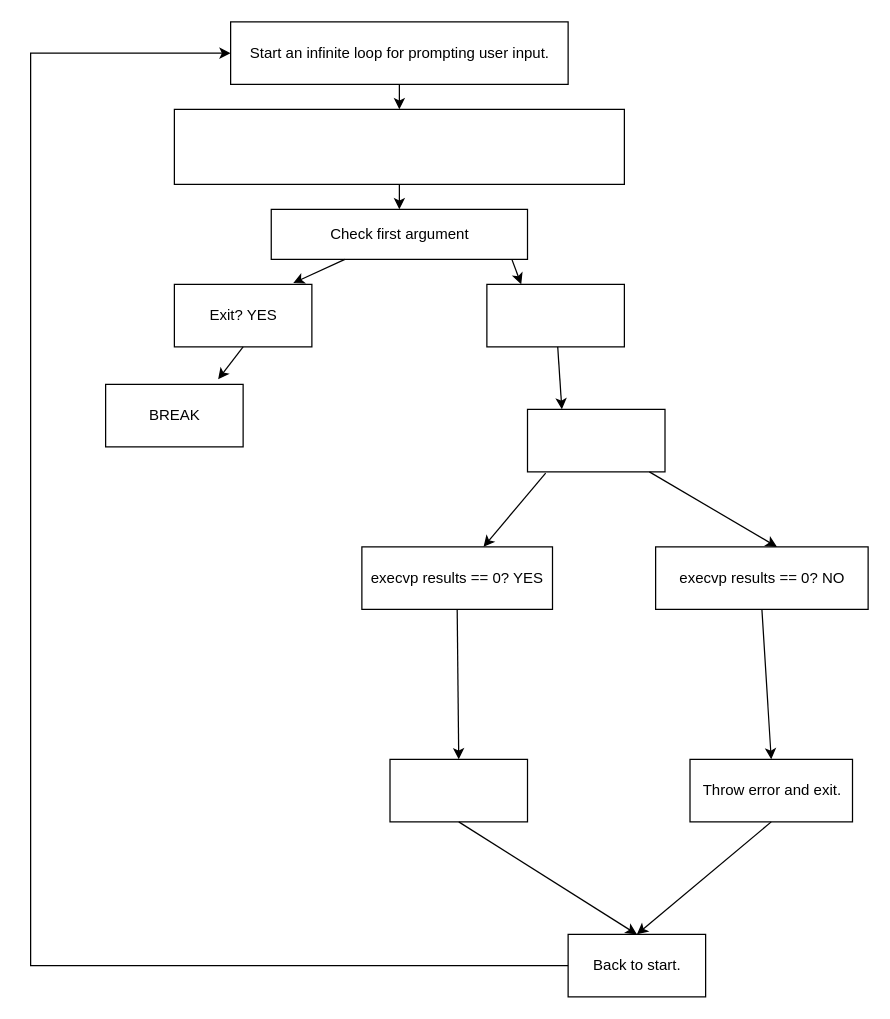
This 890x1019 diagram has some shape labels left out. Here are the shapes that lost their labels. From the top down, the box of each, then its label:
(173, 108, 624, 184): Store user input into a char array, and then split the arguments.
(486, 283, 624, 347): Exit? NO
(526, 408, 665, 472): Fork a new process
(389, 758, 528, 822): Print results.
